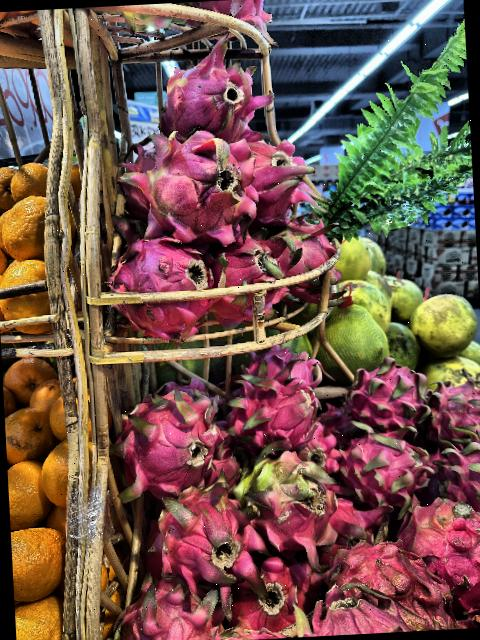buah-naga-belum-matang: (120, 130, 262, 247), (323, 526, 445, 636), (233, 447, 348, 558), (405, 491, 480, 609), (292, 586, 418, 637)
buah-naga-matang: (147, 486, 272, 594), (152, 42, 278, 138), (100, 232, 216, 330), (224, 359, 327, 454), (110, 391, 218, 481), (204, 230, 292, 328), (340, 360, 437, 444), (334, 422, 426, 506), (109, 566, 213, 640), (242, 132, 318, 227), (274, 215, 352, 302), (418, 428, 480, 506), (423, 369, 480, 439)
